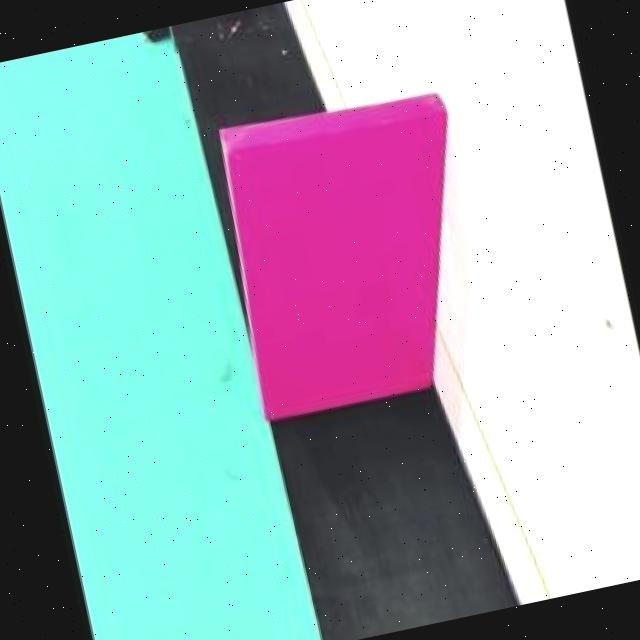xparking: (234, 100, 496, 414)
